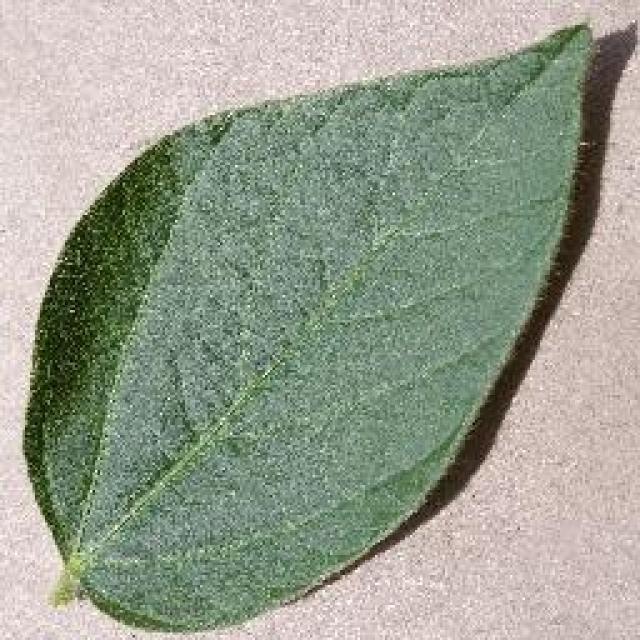Soy_healthy: (84, 101, 492, 550)
